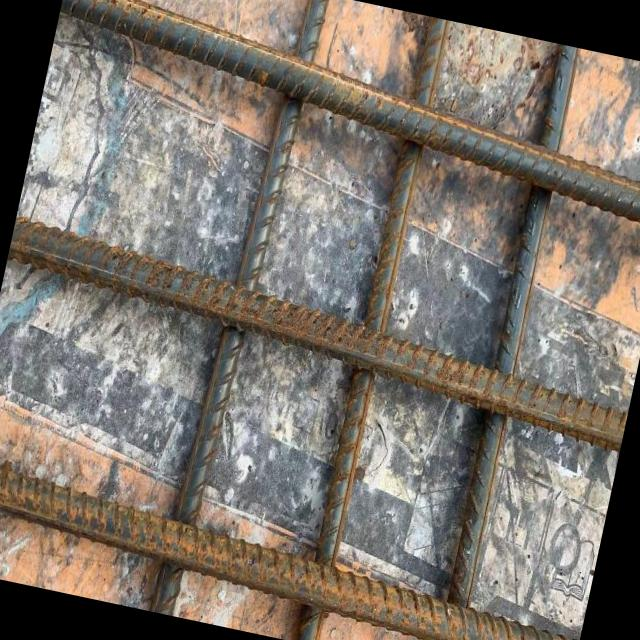ribbed bar: (0, 213, 640, 453), (41, 0, 640, 231), (147, 0, 331, 621), (0, 456, 590, 640), (291, 16, 451, 640), (423, 44, 587, 640)
